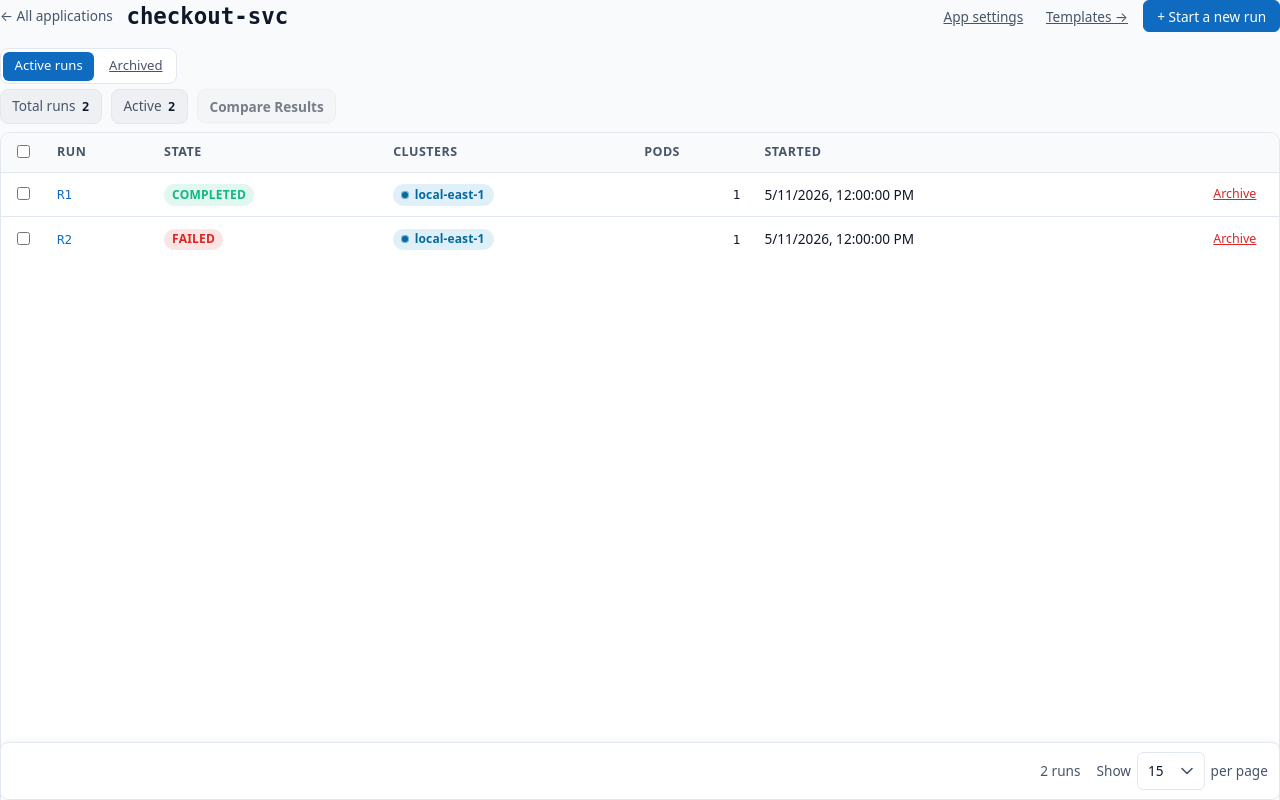
Scenario: ApplicationDetailPage › selecting runs reveals 'Archive selected' which opens a bulk confirm dialog
Expected: the link "R1" is shown, [57,187,72,202]
Expected: the button "Archive selected" is not shown
Click the checkbox named "select R1": (24, 194) [17,187,30,200]
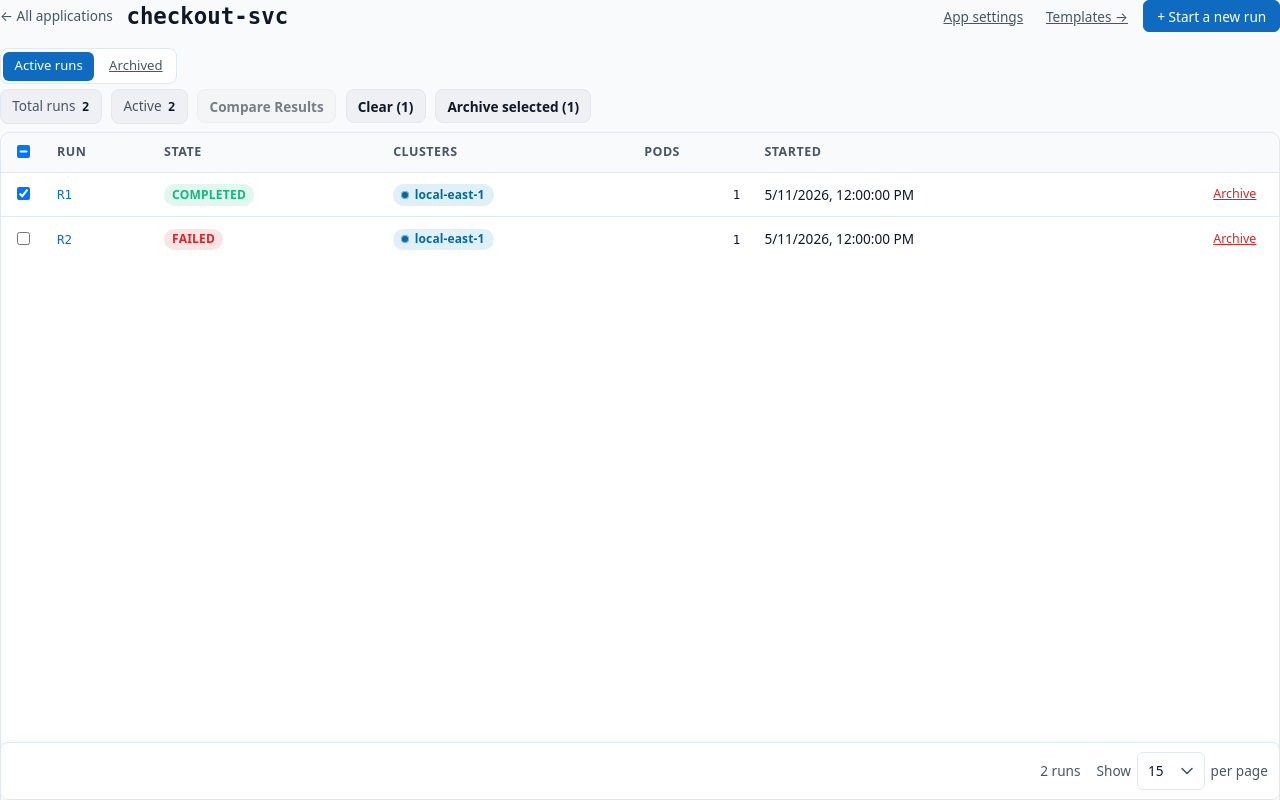
Click the checkbox named "select R2": (24, 238) [17,232,30,245]
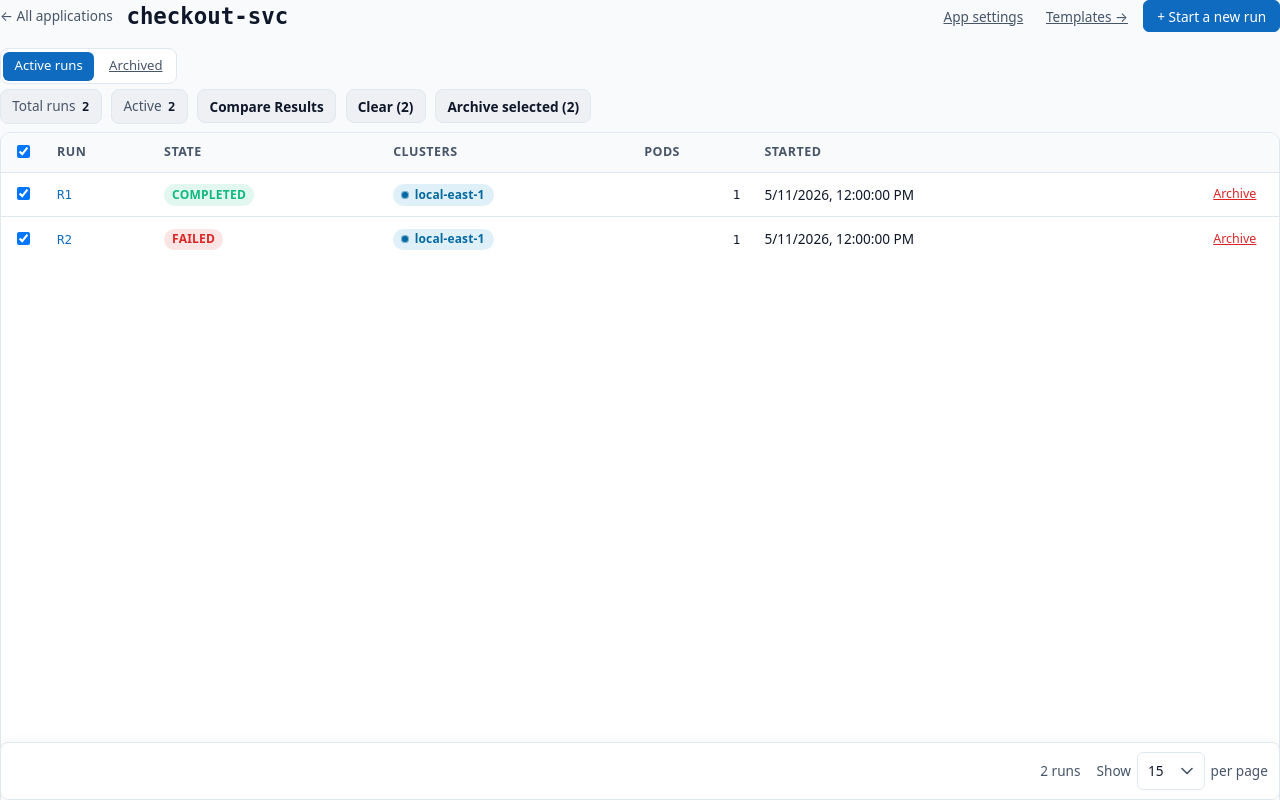
Click the button "Archive selected (2)": (513, 106) [435,89,591,123]
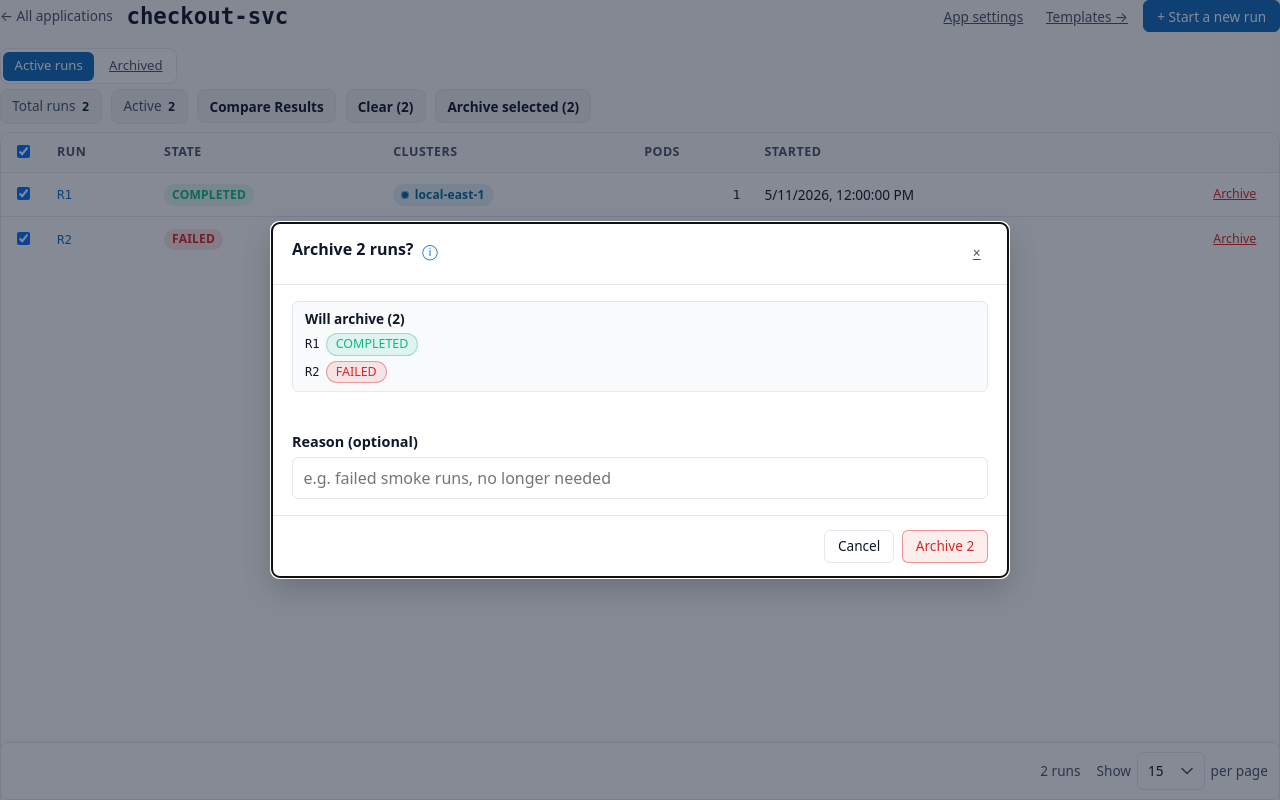
Result: the heading "Archive 2 runs?" is shown at [292,239,414,259]
